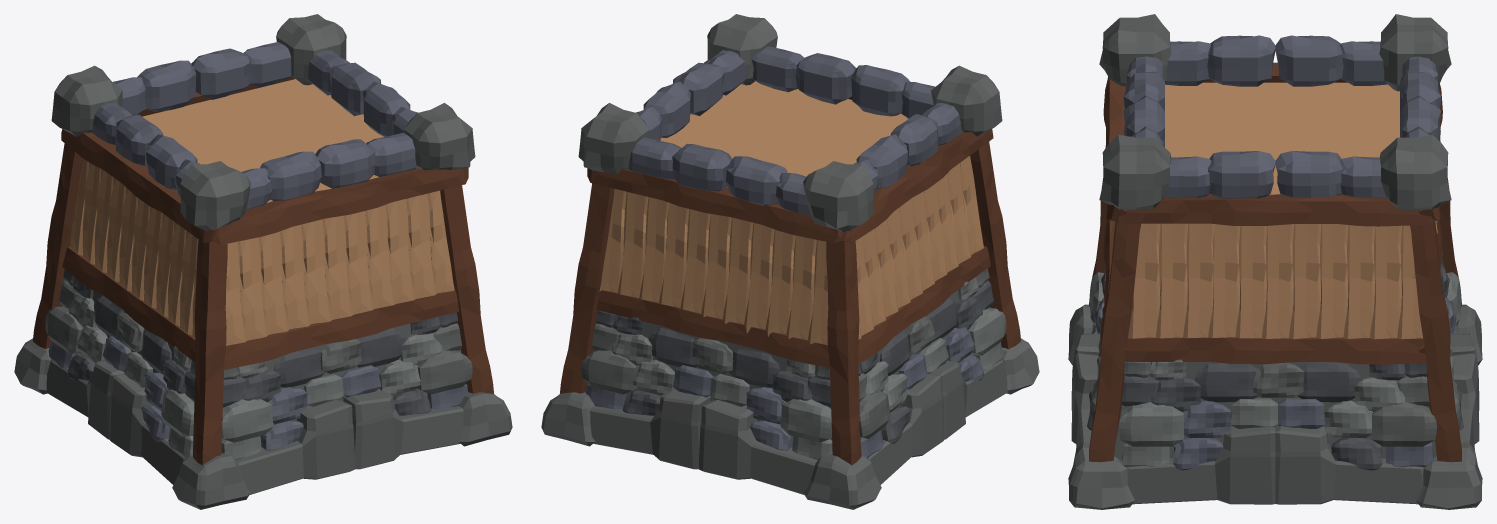
File: TowerSmoll.fbx
The picture shows the model from 3 angles, left to right: view 1: azimuth 30°, elevation 25°; view 2: azimuth 150°, elevation 25°; view 3: azimuth 270°, elevation 25°; orthographic projection. The views are drawn at different scales.
Visible parts, largest first — view 1: Cube.001, Plains, TaleBottom, HolzbalkenEcke, Cube.004, TaleBottom.001, StoneSide.001, HolzbalkenEcke.002, HolzbalkenEcke.001, StoneCorner, StoneSide, Cube; view 2: Cube.001, Plains, TaleBottom, HolzbalkenEcke, Cube.004, TaleBottom.001, StoneSide.001, HolzbalkenEcke.002, HolzbalkenEcke.001, StoneSide, StoneCorner, Cube; view 3: Cube.001, Plains, TaleBottom.001, Cube.004, StoneSide, HolzbalkenEcke, HolzbalkenEcke.002, HolzbalkenEcke.001, StoneCorner, StoneSide.001, TaleBottom, Cube.
Boxes of the visible parts, x1,y1,x2,y2 form: Cube.001: (51,14,475,230); Plains: (70,159,454,345); TaleBottom: (221,312,472,459); HolzbalkenEcke: (33,143,493,465); Cube.004: (142,79,416,202); TaleBottom.001: (45,269,195,457); StoneSide.001: (236,389,463,494); HolzbalkenEcke.002: (61,76,468,244); HolzbalkenEcke.001: (62,246,459,369); StoneCorner: (14,338,512,509); StoneSide: (46,359,186,484); Cube: (81,291,461,440); Cube.001: (578,14,1002,232); Plains: (599,156,983,344); TaleBottom: (581,310,832,459); HolzbalkenEcke: (560,142,1020,465); Cube.004: (660,81,907,187); TaleBottom.001: (858,268,1006,458); StoneSide.001: (590,389,817,494); HolzbalkenEcke.002: (587,96,993,243); HolzbalkenEcke.001: (596,246,990,367); StoneSide: (868,359,1007,484); StoneCorner: (541,338,1039,509); Cube: (592,290,991,440); Cube.001: (1099,14,1451,210); Plains: (1112,220,1437,339); TaleBottom.001: (1118,359,1436,470); Cube.004: (1165,82,1399,194); StoneSide: (1126,425,1424,504); HolzbalkenEcke: (1089,141,1461,462); HolzbalkenEcke.002: (1103,62,1442,226); HolzbalkenEcke.001: (1103,220,1442,364); StoneCorner: (1068,304,1482,509); StoneSide.001: (1071,327,1479,449); TaleBottom: (1087,252,1463,430); Cube: (1114,362,1436,461).
Bounding box in the file's own units: 288 × 263 × 286.
